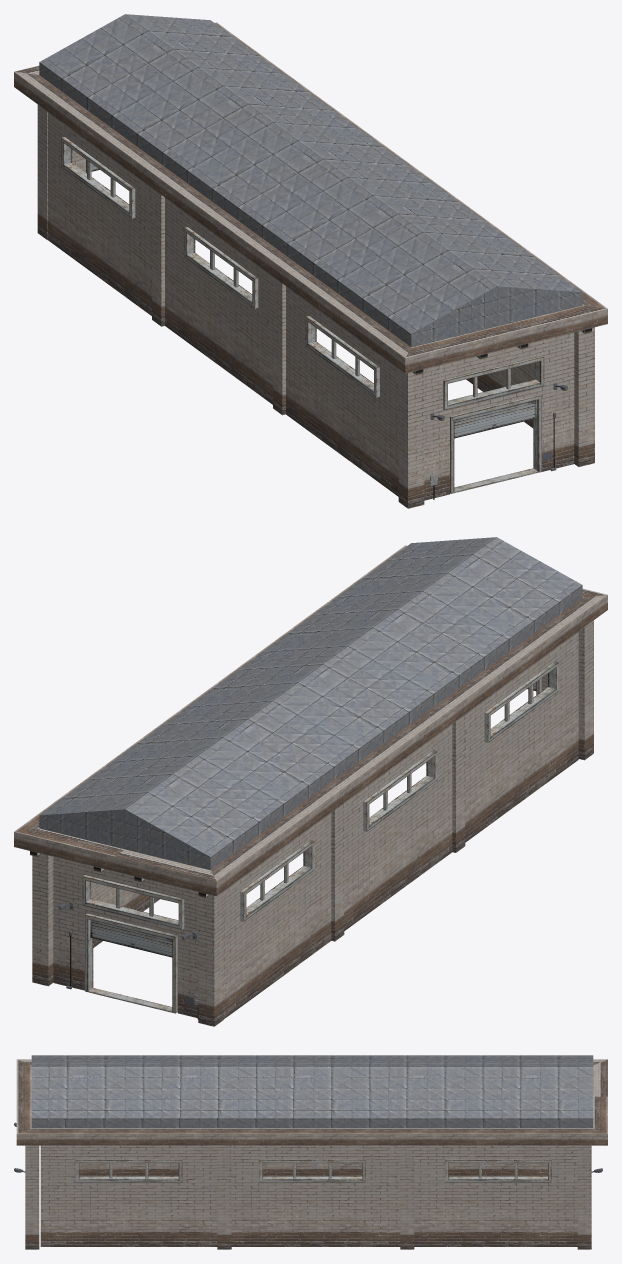
File: ind6_hall3.dae
The picture shows the model from 3 angles, top to bottom: view 1: azimuth 30°, elevation 25°; view 2: azimuth 150°, elevation 25°; view 3: azimuth 270°, elevation 25°; orthographic projection. The views are drawn at different scales.
Parts seen in each view (by area): view 1: Mesh; view 2: Mesh; view 3: Mesh.
Part boxes in pixels (x1,y1,x2,y2): Mesh: [14, 14, 607, 508]; Mesh: [14, 537, 607, 1026]; Mesh: [14, 1055, 607, 1249].
Size of the model in its own units: 12.28 by 11.47 by 41.29.
